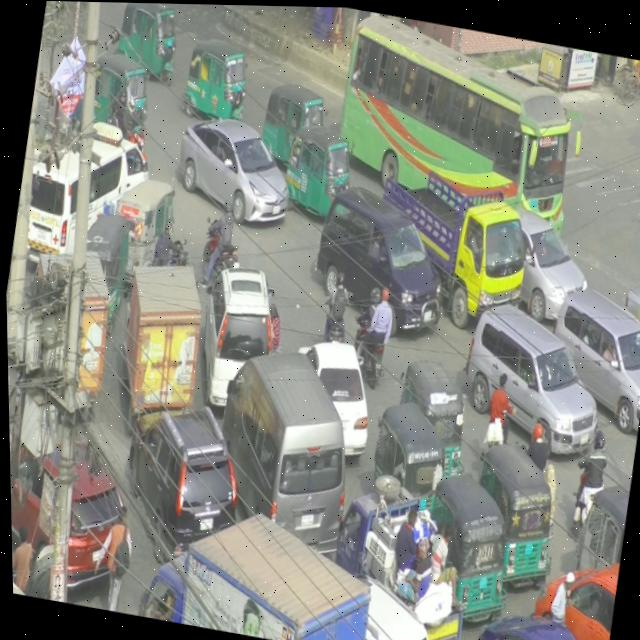cng: (350, 375, 457, 534), (409, 473, 521, 611), (48, 203, 151, 351), (462, 437, 567, 574), (385, 344, 476, 481), (98, 161, 190, 279), (248, 51, 336, 174), (270, 113, 359, 223), (175, 14, 257, 132), (74, 44, 163, 137), (111, 2, 190, 85)
